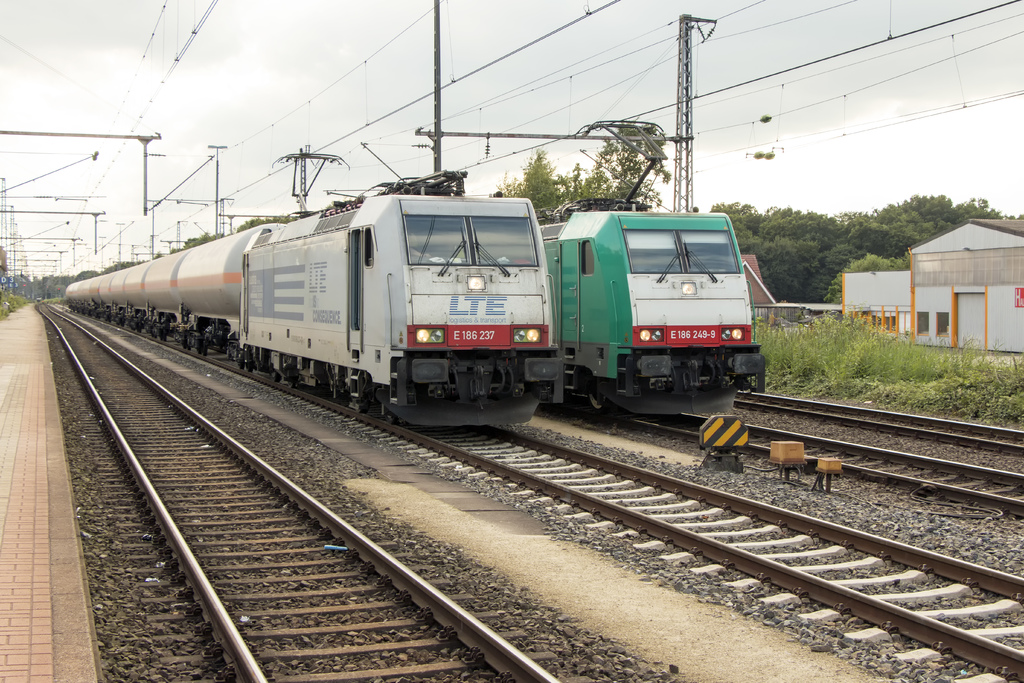train: (65, 150, 566, 424)
